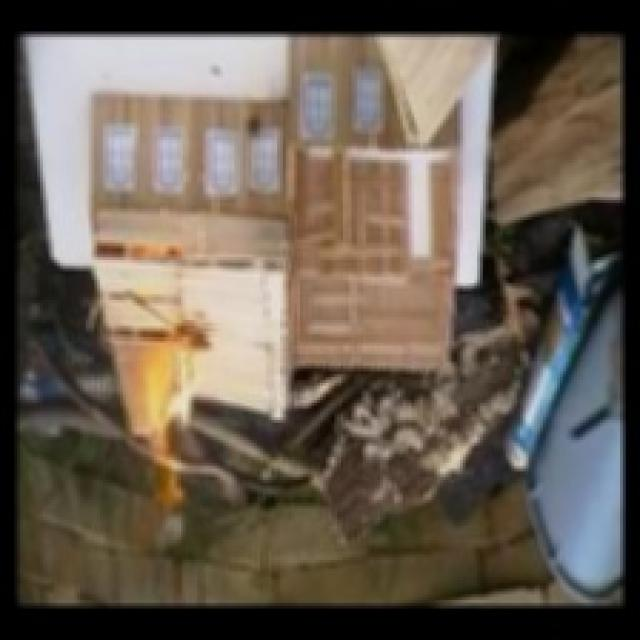fire: (112, 332, 217, 517)
